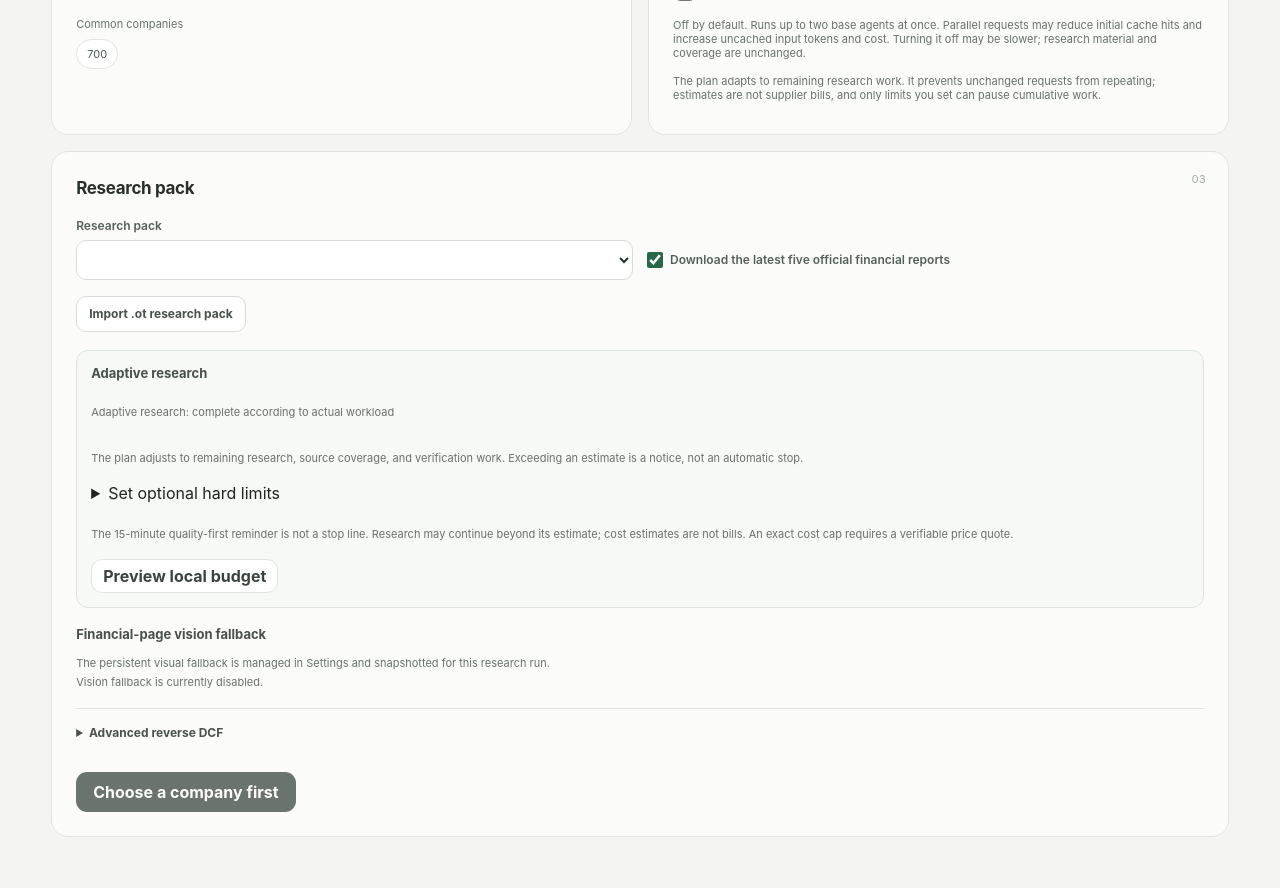
Scenario: NewResearch configured models › rejects non-safe-integer hard limits without restoring default caps
The width and height of the screenshot is (1280, 888).
(page scrolled)
Click the heading "Set optional hard limits" at {"x": 194, "y": 493}, box [108, 483, 280, 503]
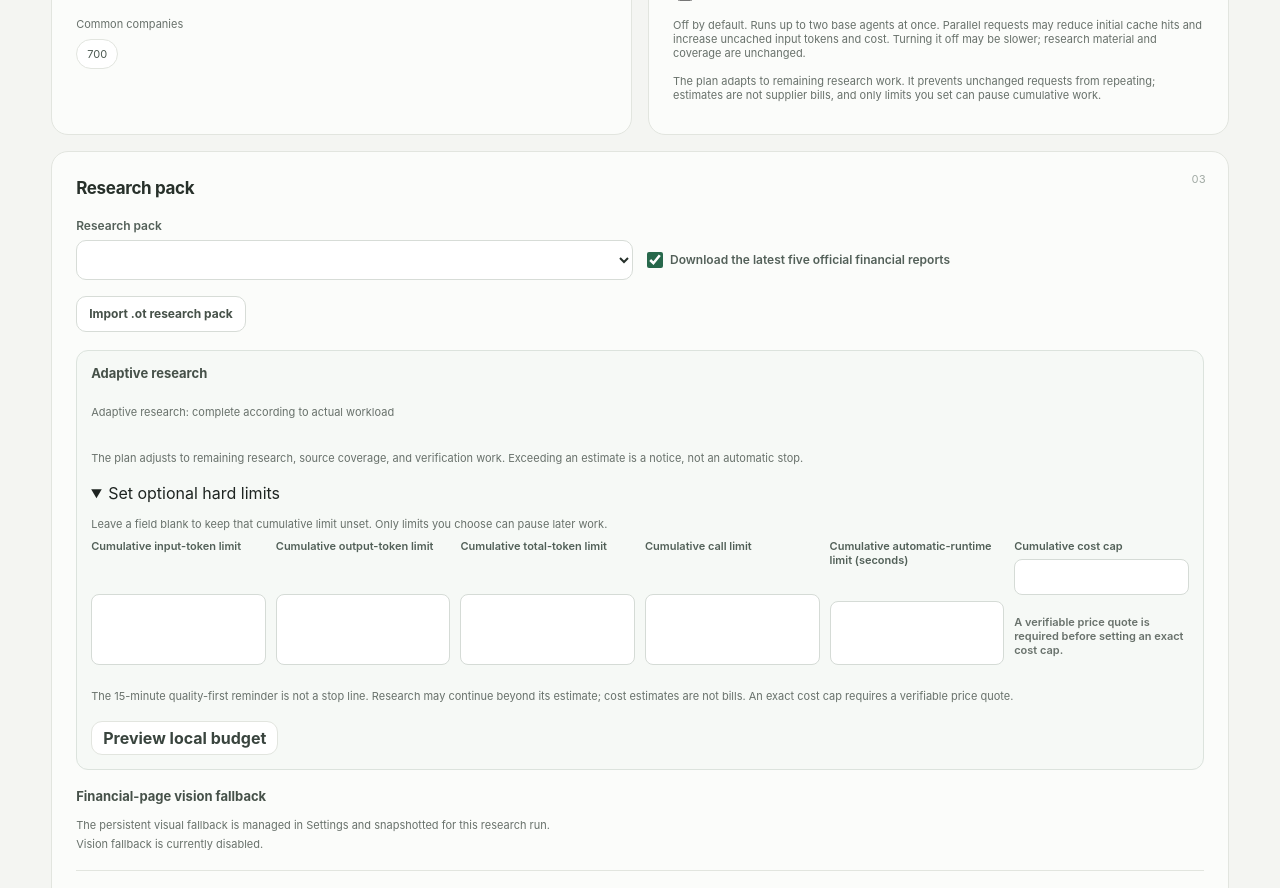
Type "9007199254740992" into the number field labelled "Cumulative call limit" at {"x": 732, "y": 630}, box [645, 594, 820, 665]
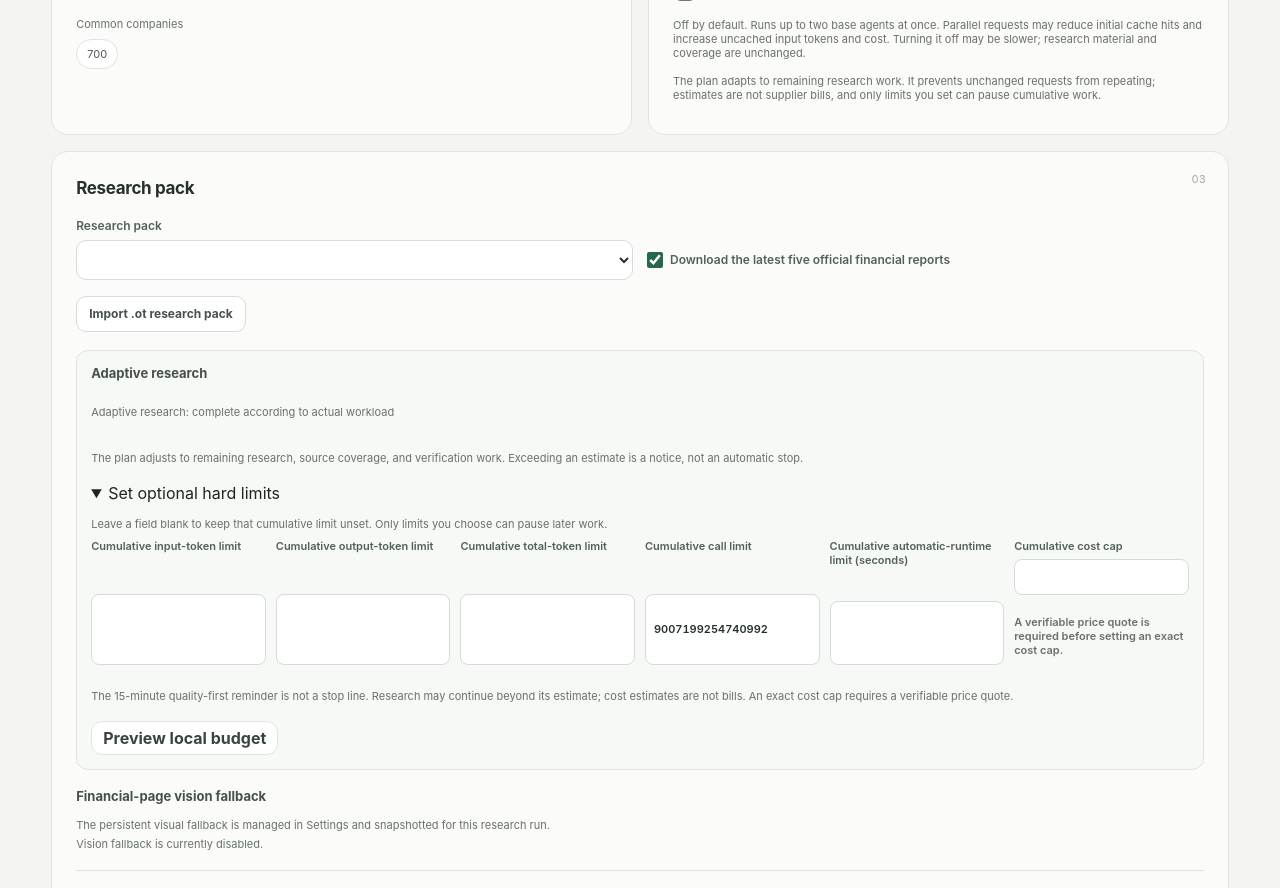
Click the button "700" at {"x": 97, "y": 54}, box [76, 39, 118, 69]
(page scrolled)
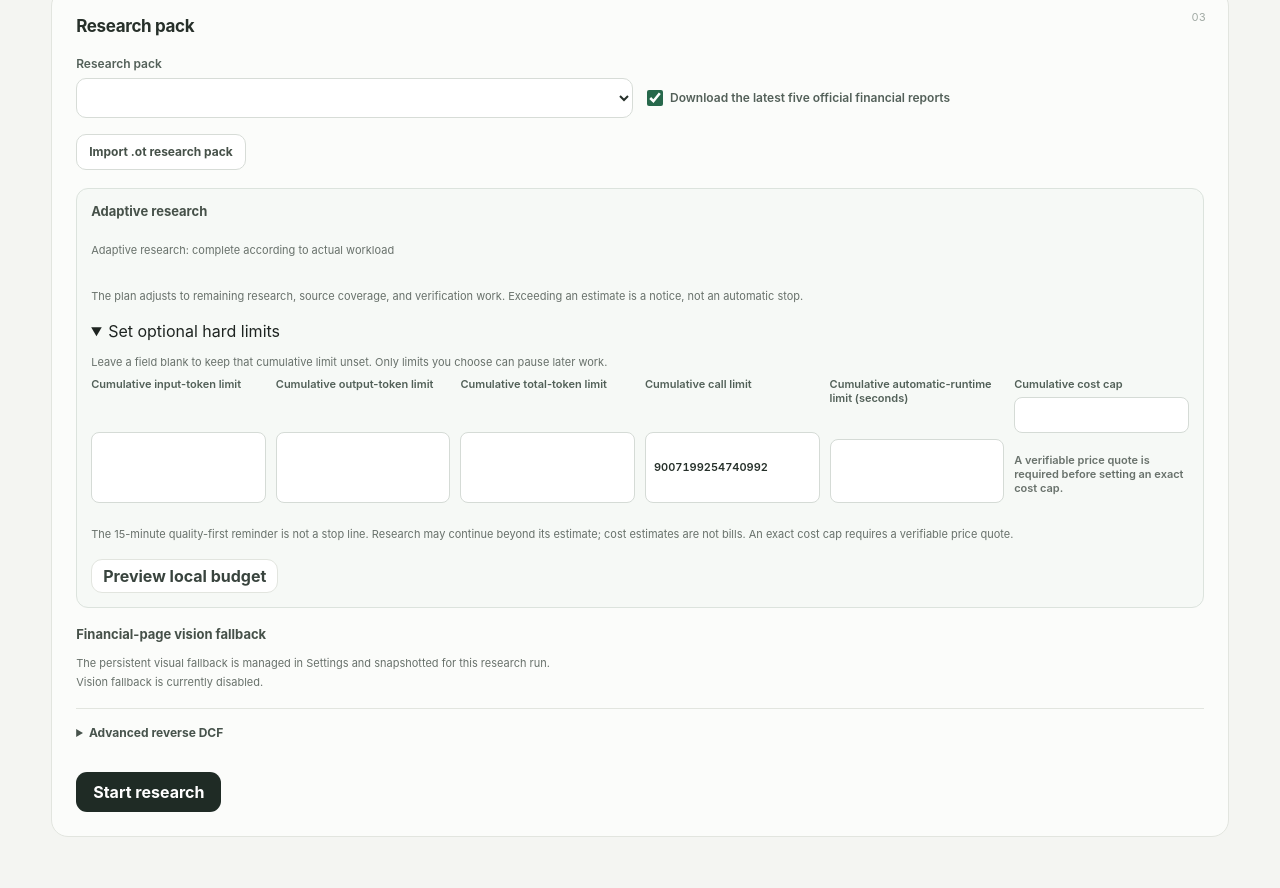
Click the button "Start research" at {"x": 149, "y": 792}, box [76, 772, 222, 812]
(page scrolled)
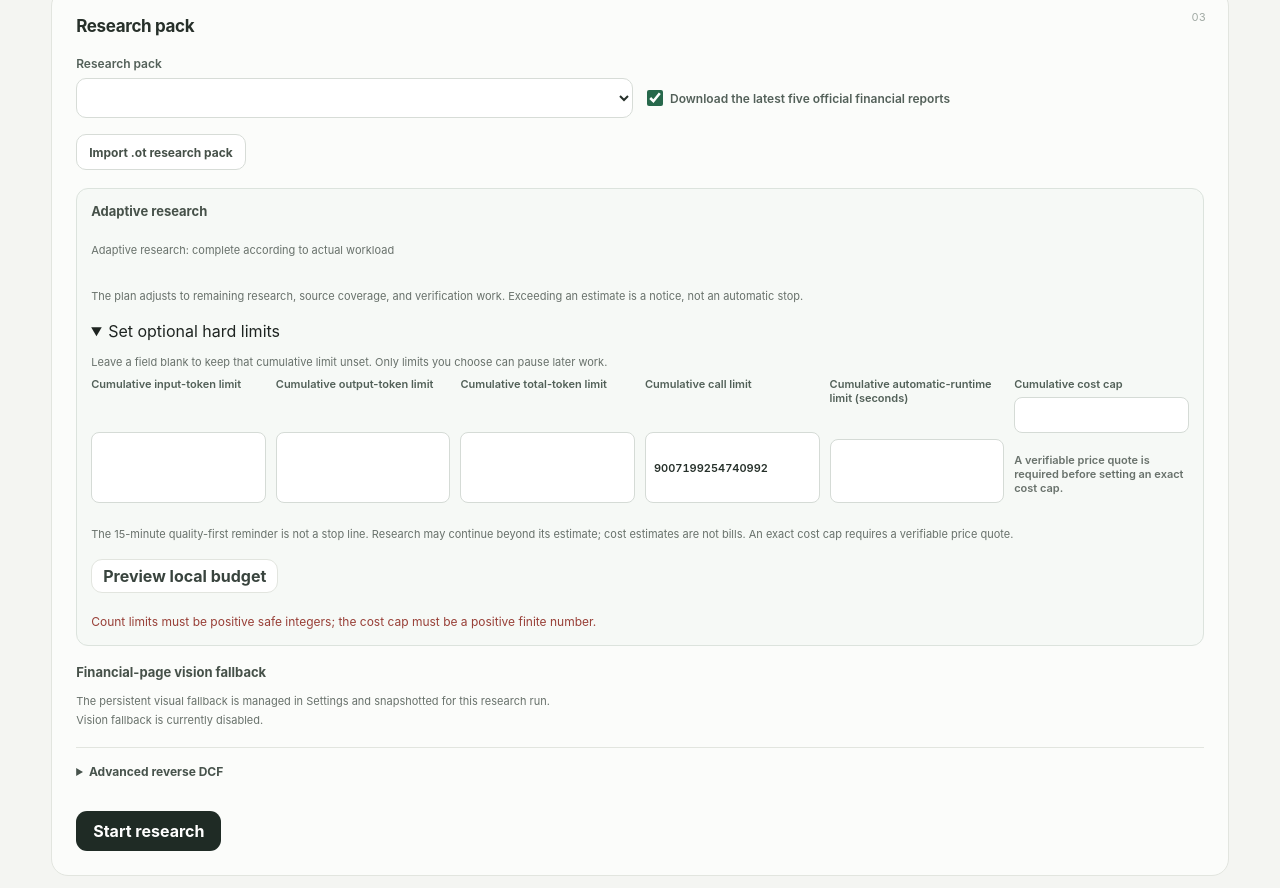
Now the message shows "Count limits must be positive safe integers; the cost cap must be a positive finite number.", box [91, 614, 596, 629]
